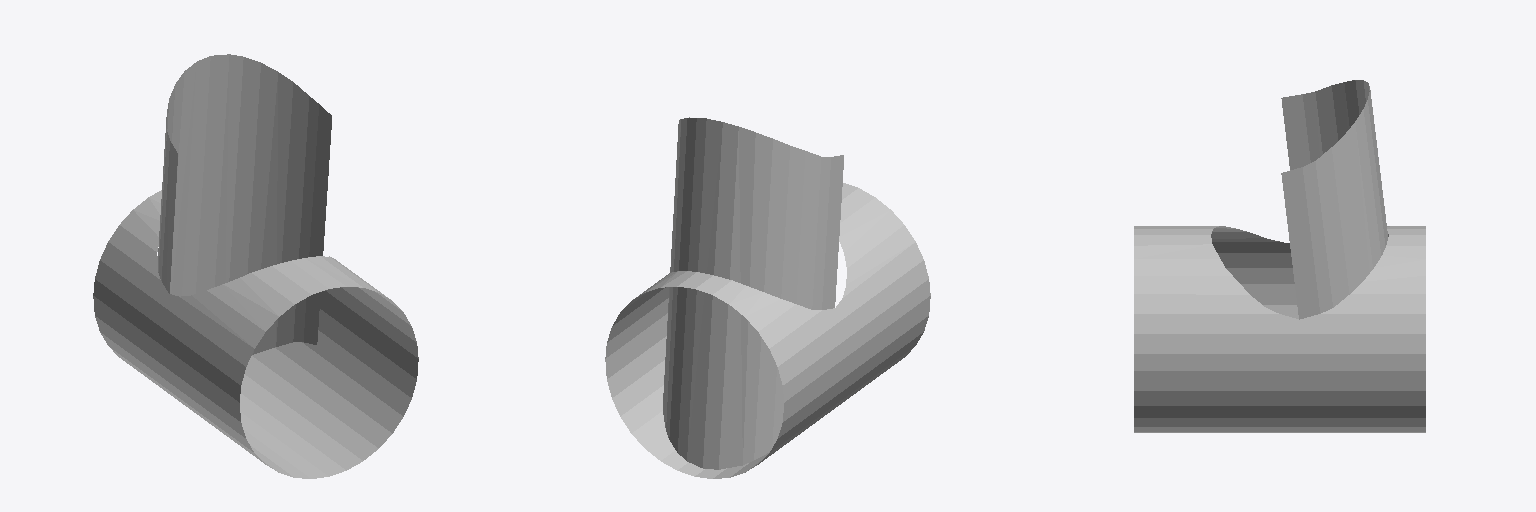
The model's file is cylinder_in_end.obj.
3 renders of one model, left to right at view 1: azimuth 30°, elevation 25°; view 2: azimuth 150°, elevation 25°; view 3: azimuth 270°, elevation 25°, orthographic.
Visible parts, largest first — view 1: in; view 2: in; view 3: in.
Part boxes in pixels (bbox=[...]): in: bbox=[93, 54, 418, 478]; in: bbox=[605, 117, 930, 478]; in: bbox=[1134, 80, 1425, 432].
Size of the model in its own units: 2.32 by 4.15 by 3.29.